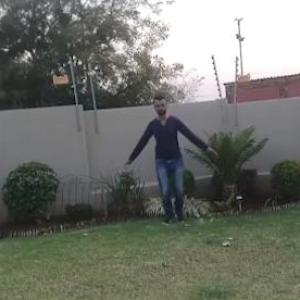land: (112, 93, 222, 237)
